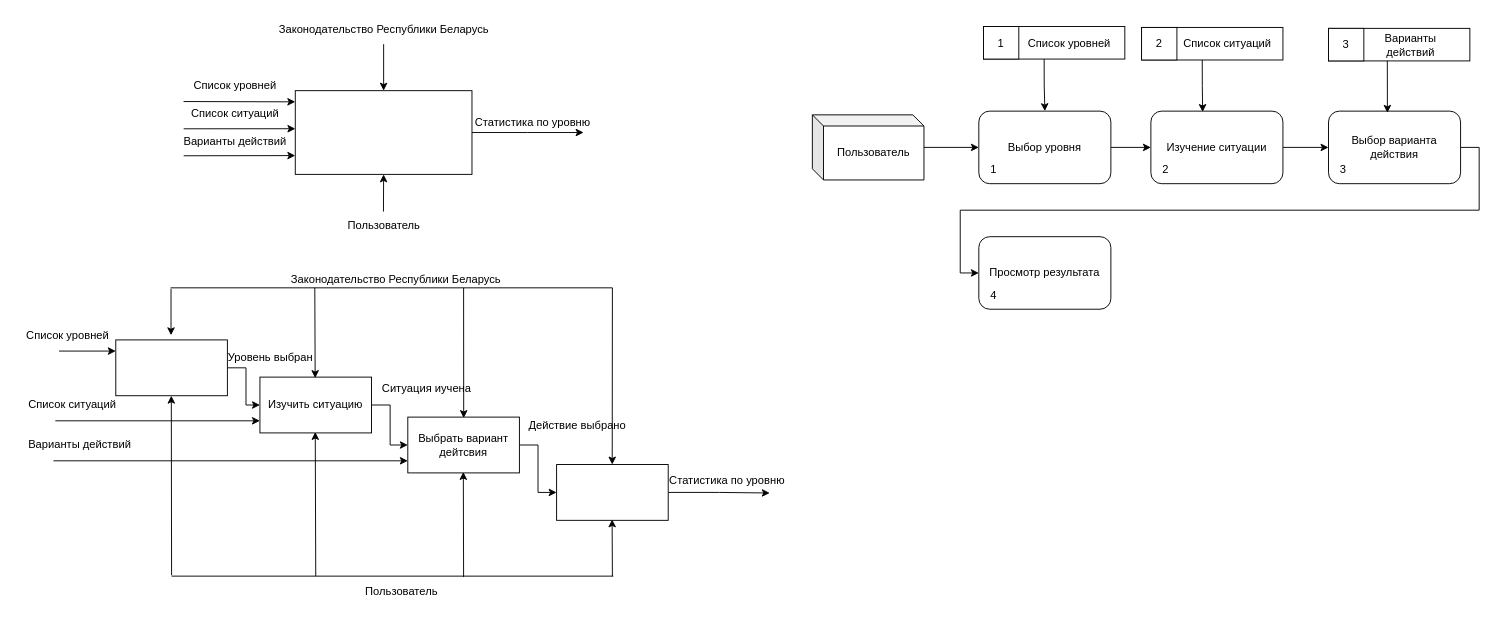
Some shapes in this 1503 by 621 pixel diagram are drawn without their labels. The centre of each missing label's shape, as x and y in pixels:
Выбрать уровень: point (171, 367)
Мобильное приложение «Административная ответственность подростков "Solvio"»: point (383, 132)
Просмотреть результат: point (612, 492)
